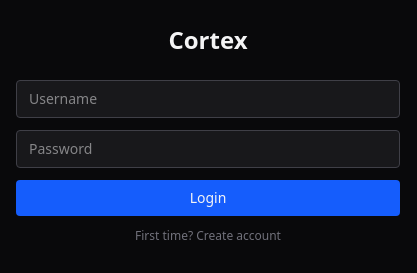
Test: Login › displays error on login failure
Step 1. Type "greg" into the field with placeholder "Username" → (208, 99), box [16, 80, 400, 118]
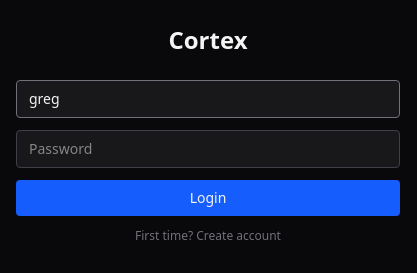
Step 2. Type "wrong" into the password field with placeholder "Password" → (208, 149), box [16, 130, 400, 168]
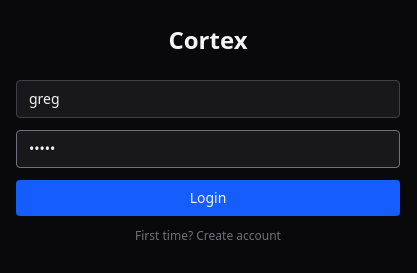
Step 3. Click the button "Login" → (208, 198), box [16, 180, 400, 216]
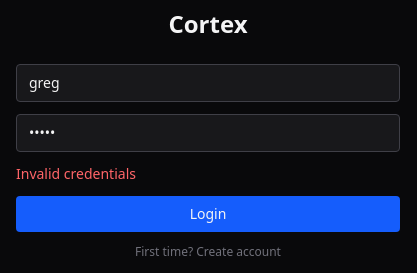
Check: the text "Invalid credentials" is shown, box [16, 164, 136, 183]
